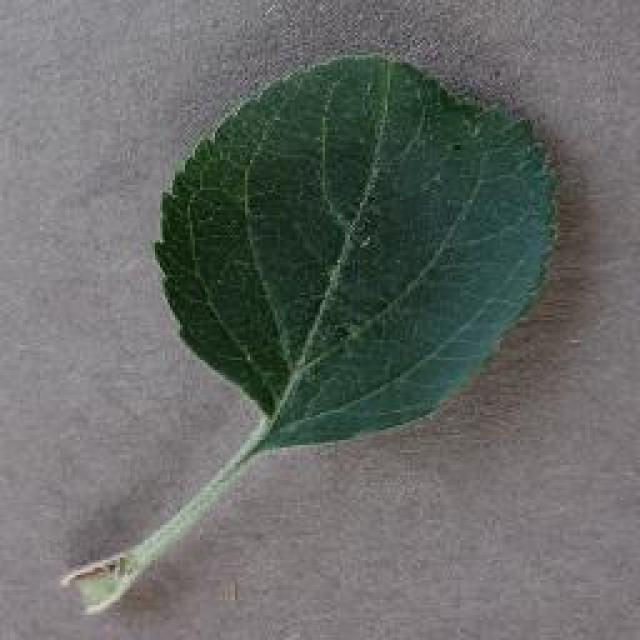apple healthy: (58, 47, 562, 615)
